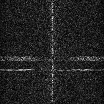wifi: (1, 56, 104, 60), (1, 69, 104, 71)
